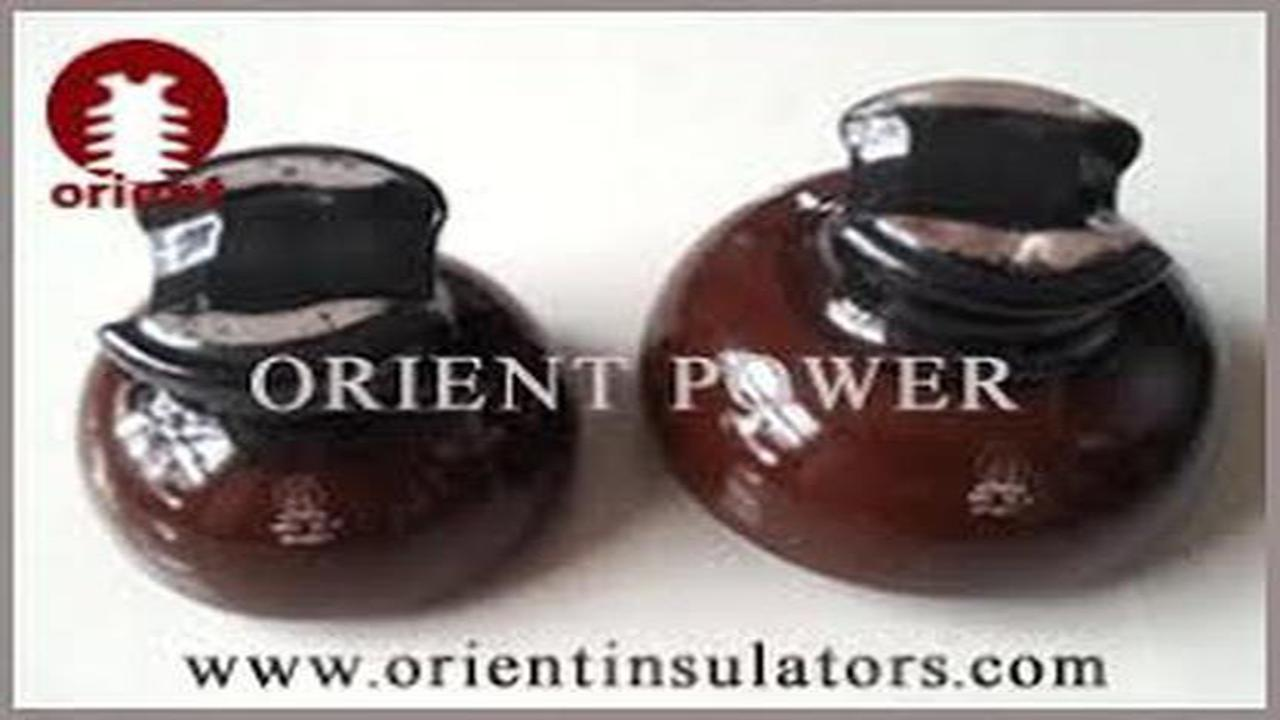insulator_pin: (53, 146, 597, 639)
